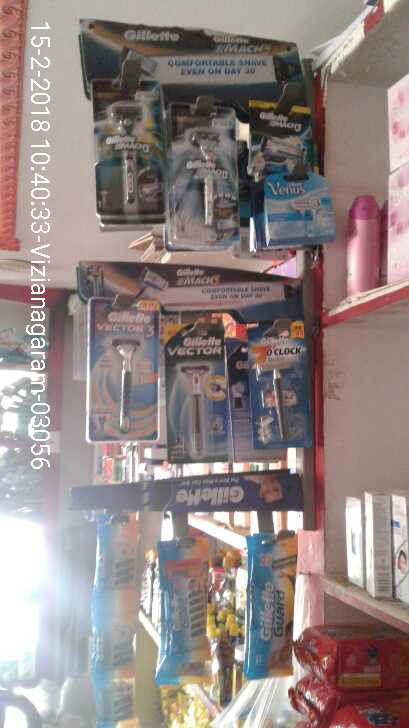beauty: (95, 82, 165, 225), (87, 302, 153, 447), (174, 113, 239, 242), (245, 533, 296, 678), (255, 325, 316, 444), (258, 173, 344, 250), (177, 323, 226, 458), (165, 529, 206, 689), (246, 88, 318, 166), (80, 595, 141, 676), (83, 514, 140, 593)
